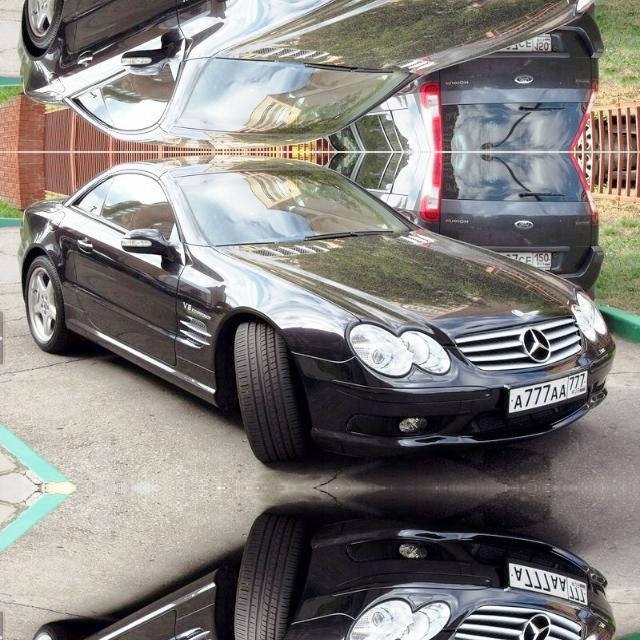citizen: (506, 363, 592, 417), (506, 558, 592, 612)
